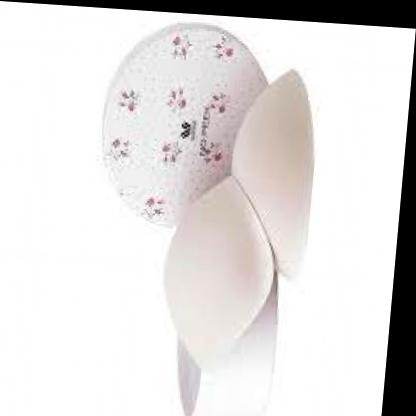Miscellaneous: (24, 17, 370, 416)
